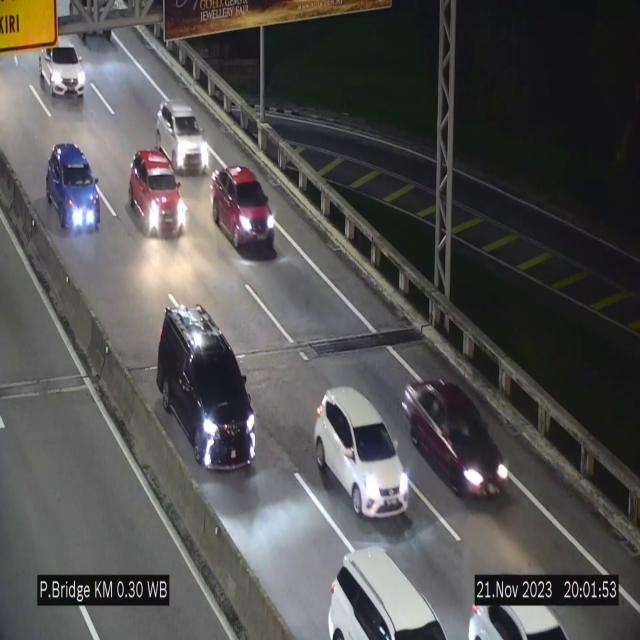Car: (158, 305, 256, 473), (319, 539, 454, 640), (404, 379, 512, 496), (314, 388, 409, 519), (457, 575, 571, 640), (125, 151, 192, 253), (212, 166, 276, 253), (46, 144, 100, 230), (157, 100, 207, 172), (36, 38, 87, 98)
